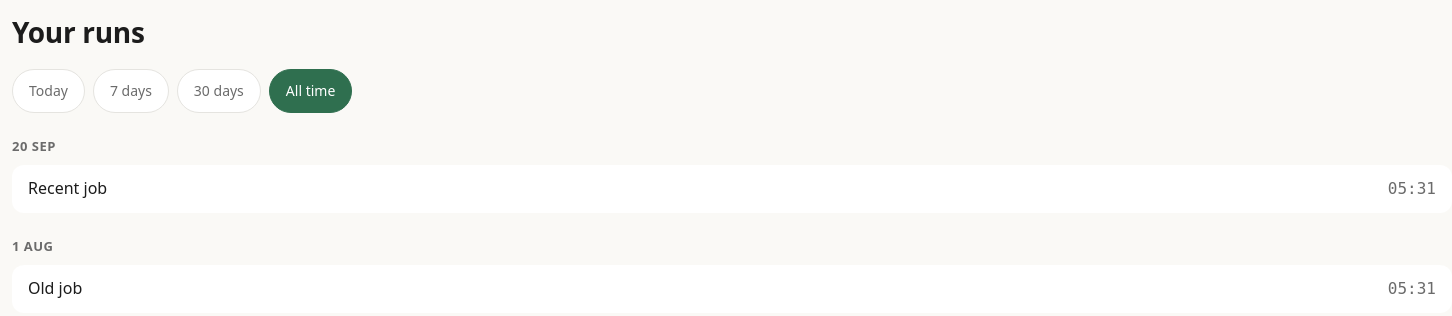
Test: History page › filters to the last 7 days
The width and height of the screenshot is (1452, 316).
expect the text "Recent job" is shown: met, box [28, 177, 107, 199]
expect the text "Old job" is shown: met, box [28, 278, 82, 300]
Step 1. Click the button "7 days" → x=131, y=91, box [93, 69, 169, 113]
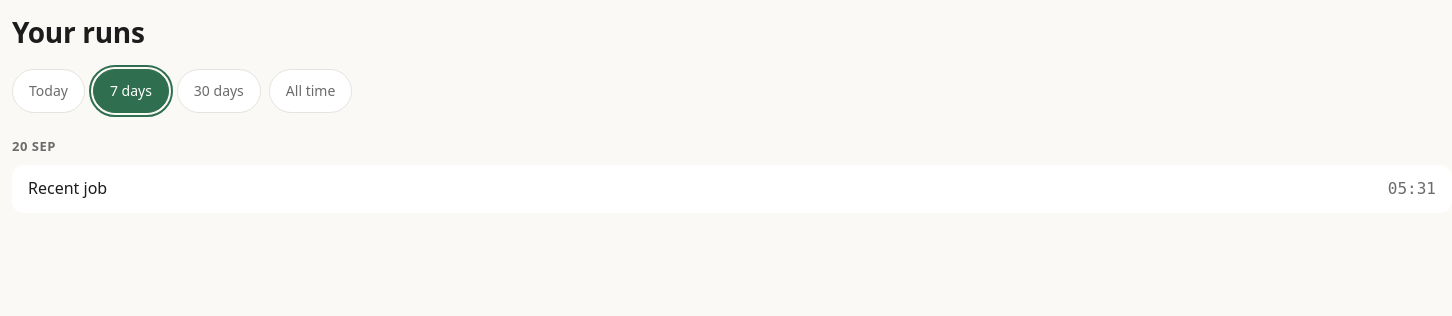
expect the text "Recent job" is shown: met, box [28, 177, 107, 199]
expect the text "Old job" is gone: met
